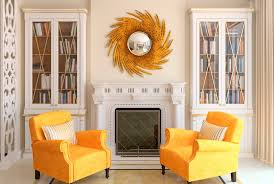chair: (160, 111, 244, 182), (30, 112, 112, 184)
